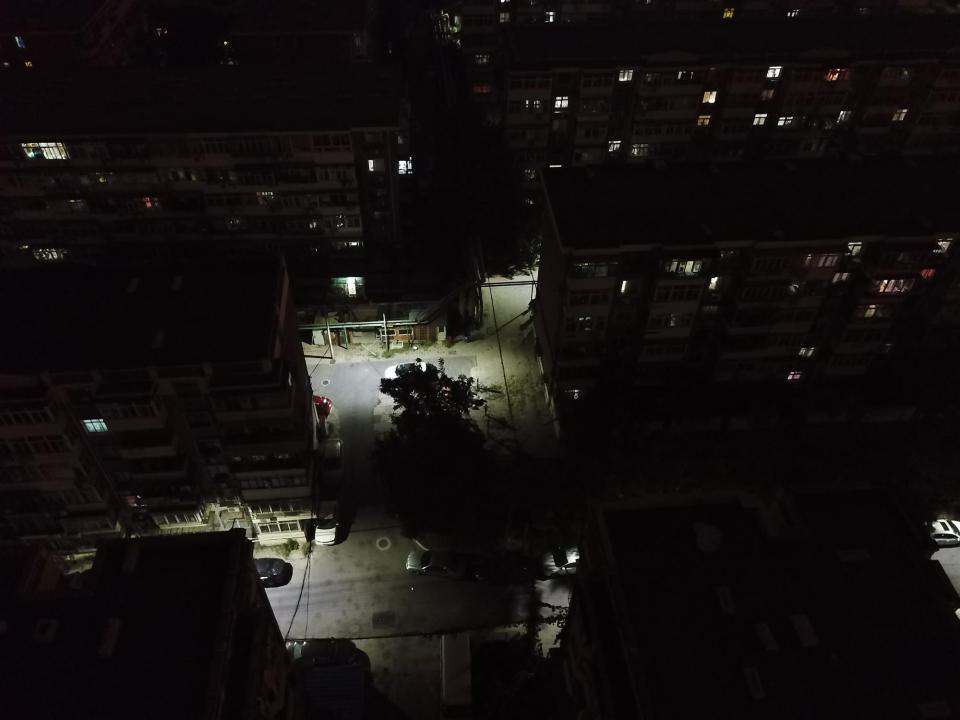car: (286, 636, 358, 665), (220, 557, 284, 587), (406, 548, 466, 578), (909, 516, 960, 547), (318, 438, 345, 487)
van: (440, 634, 476, 715), (541, 546, 598, 578), (475, 556, 532, 583), (314, 501, 340, 546), (293, 391, 332, 416), (385, 362, 430, 382)
